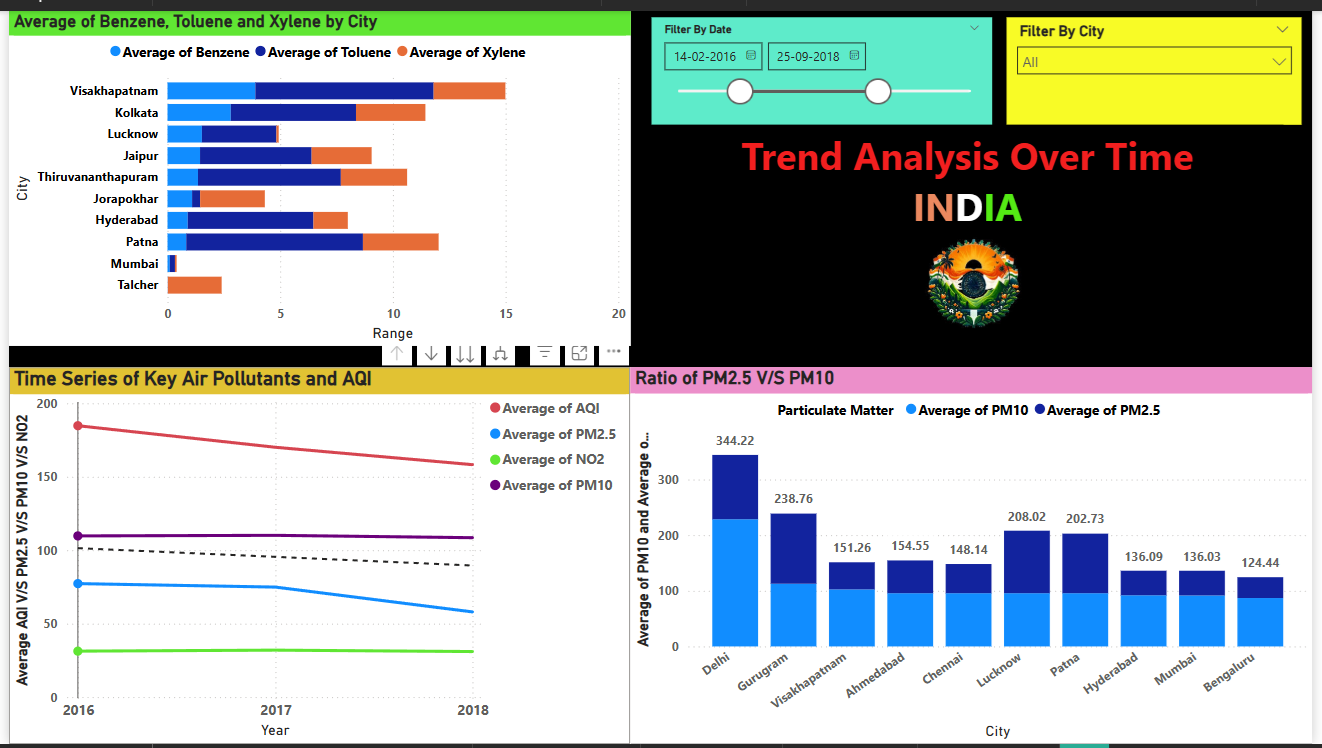

The page's visual inventory and layout, read from the dashboard file:
{"tool":"powerbi","page":{"name":"Trend Analyis","canvas":[1280,720],"ordinal":2},"visuals":[{"type":"lineChart","title":"Time Series of Key Air Pollutants and AQI","fields":{"Category":["city_day_with_coordinates.Date.Variation.Date Hierarchy.Year","city_day_with_coordinates.Date.Variation.Date Hierarchy.Quarter","city_day_with_coordinates.Date.Variation.Date Hierarchy.Month","city_day_with_coordinates.Date.Variation.Date Hierarchy.Day"],"Y":["Avg(city_day_with_coordinates.AQI)","Avg(city_day_with_coordinates.PM2.5)","Avg(city_day_with_coordinates.NO2)","Avg(city_day_with_coordinates.PM10)"]},"box":[0,349.9,610.1,369.8],"z":0},{"type":"lineStackedColumnComboChart","title":"Ratio of PM2.5 V/S PM10","fields":{"Category":["city_day_with_coordinates.City"],"Y":["Avg(city_day_with_coordinates.PM10)","Avg(city_day_with_coordinates.PM2.5)"]},"box":[610.1,349.9,669.9,369.8],"z":1000},{"type":"barChart","title":"Average of Benzene, Toluene and Xylene by City","fields":{"Category":["city_day_with_coordinates.City"],"Y":["Avg(city_day_with_coordinates.Benzene)","Avg(city_day_with_coordinates.Toluene)","Avg(city_day_with_coordinates.Xylene)"]},"box":[0,0,610.3,328.9],"z":2000},{"type":"slicer","fields":{"Values":["city_day_with_coordinates.Date"]},"box":[630.5,5.8,334.7,105.3],"z":3000},{"type":"slicer","fields":{"Values":["city_day_with_coordinates.City"]},"box":[979.6,5.8,290,105.3],"z":4000},{"type":"textbox","box":[630.5,111.1,620.4,119.7],"z":5000},{"type":"image","box":[858.4,207.8,174.6,121.2],"z":6000}]}

Visuals, with their boxes in screenshot pixels (x1, y1, x2, y2):
"Time Series of Key Air Pollutants and AQI" lineChart: 7/363/628/740
"Ratio of PM2.5 V/S PM10" lineStackedColumnComboChart: 628/363/1311/740
"Average of Benzene, Toluene and Xylene by City" barChart: 7/7/628/342
slicer - city_day_with_coordinates.Date: 649/13/990/120
slicer - city_day_with_coordinates.City: 1005/13/1300/120
textbox: 649/120/1281/242
image: 881/219/1059/342
